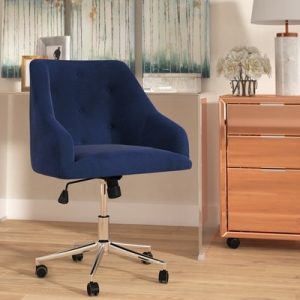chair: (29, 59, 192, 297)
